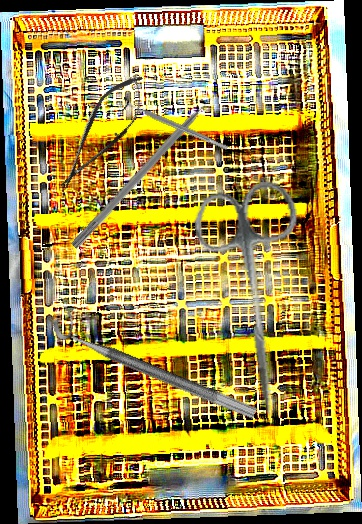Fixation Ring: (48, 304, 265, 421), (118, 95, 231, 157)
Iris Scissors: (190, 177, 325, 426)
Micro Scissor: (46, 65, 158, 200)
Pusher: (69, 84, 227, 252)
